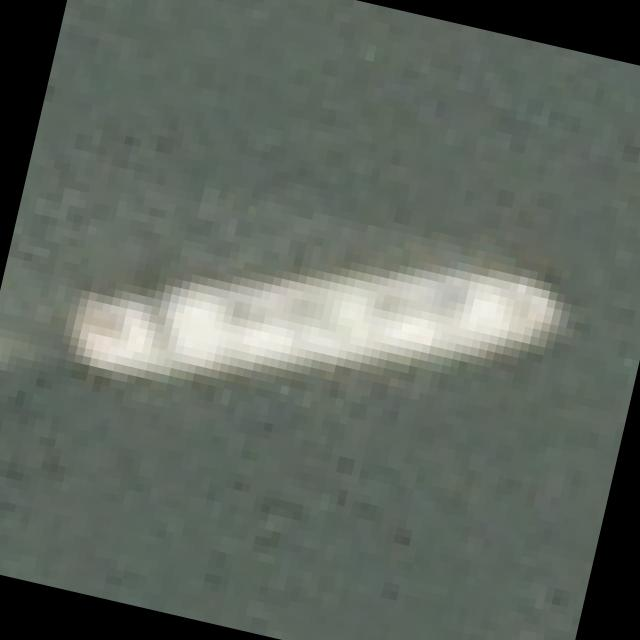ship: (60, 167, 584, 493)
